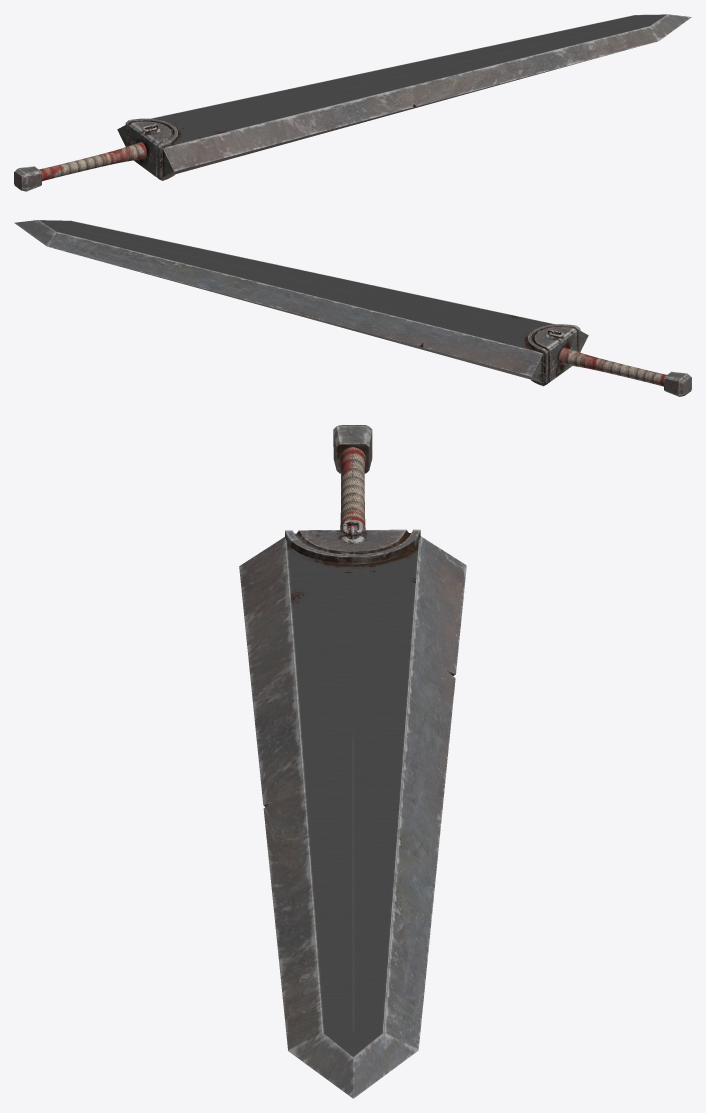
The model's file is dragon_slayer_berserk.glb.
3 renders of one model, top to bottom at view 1: azimuth 30°, elevation 25°; view 2: azimuth 150°, elevation 25°; view 3: azimuth 270°, elevation 25°, orthographic. The views are drawn at different scales.
Parts seen in each view (by area): view 1: Dragon_slayer; view 2: Dragon_slayer; view 3: Dragon_slayer.
Boxes of the visible parts, x1,y1,x2,y2 form: Dragon_slayer: (14,14,691,191); Dragon_slayer: (14,220,691,396); Dragon_slayer: (239,425,466,1098).
Size of the model in its own units: 2 by 0.1189 by 0.2927.
Materials: 1 (1 with a texture image).
